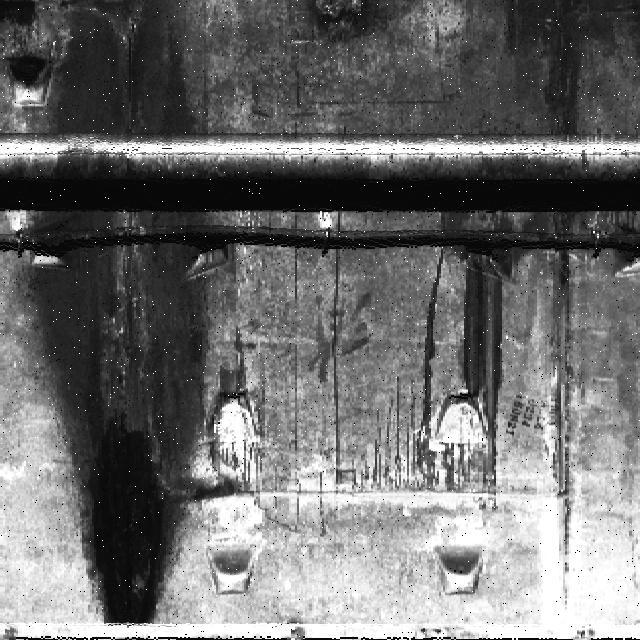leakage: (23, 1, 228, 633), (418, 212, 529, 503), (463, 1, 631, 149), (538, 212, 591, 609), (298, 1, 422, 47)
